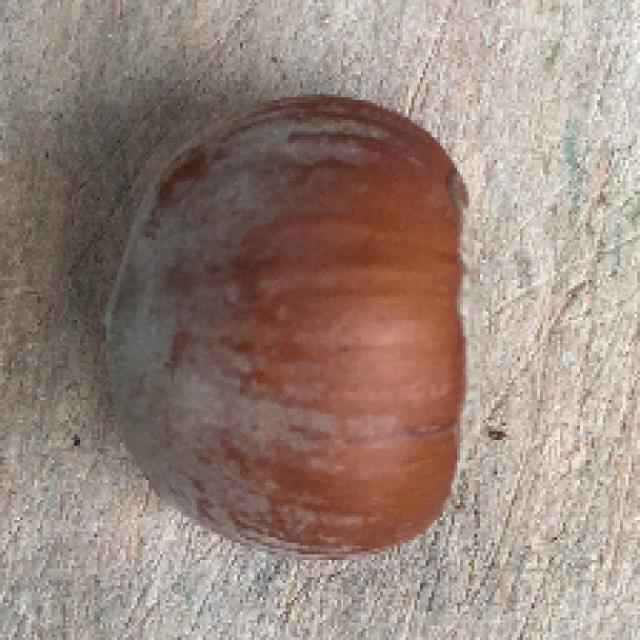qualityHazelnut: (101, 88, 481, 561)
